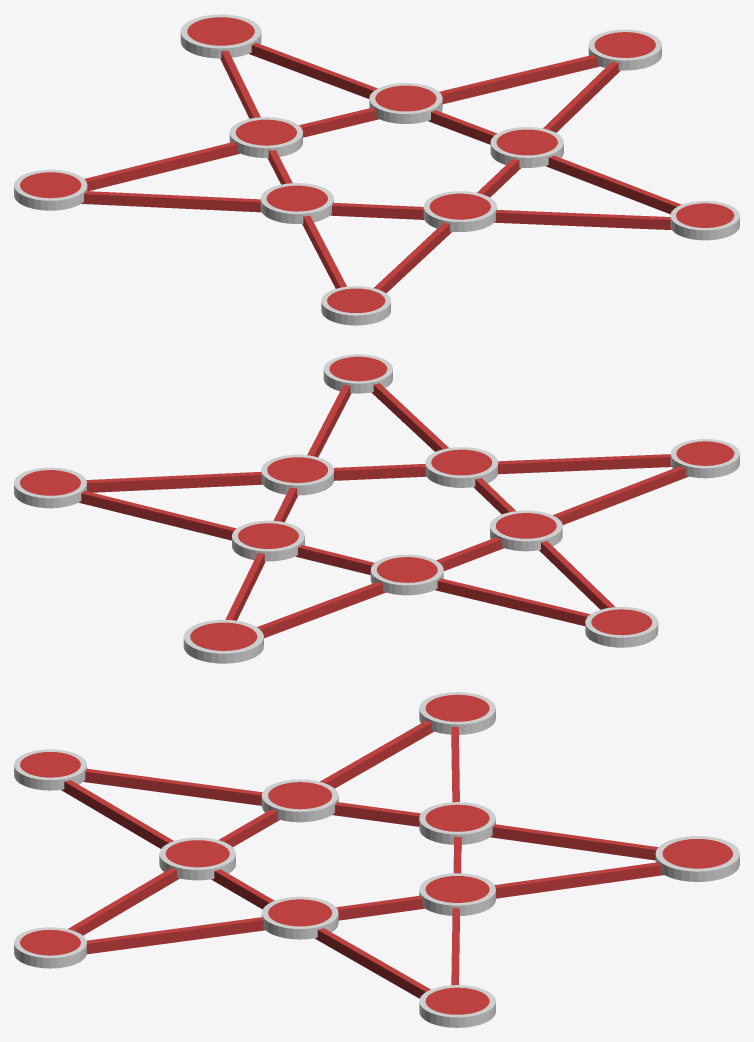
The model's file is Star.fbx.
3 renders of one model, top to bottom at view 1: azimuth 30°, elevation 25°; view 2: azimuth 150°, elevation 25°; view 3: azimuth 270°, elevation 25°, orthographic. The views are drawn at different scales.
Visible parts, largest first — view 1: Circle.001; view 2: Circle.001; view 3: Circle.001.
Part boxes in pixels (<box>): Circle.001: <box>14,14,739,325</box>; Circle.001: <box>14,354,739,663</box>; Circle.001: <box>14,692,739,1027</box>.
Bounding box in the file's own units: 201 × 3.73 × 189.
